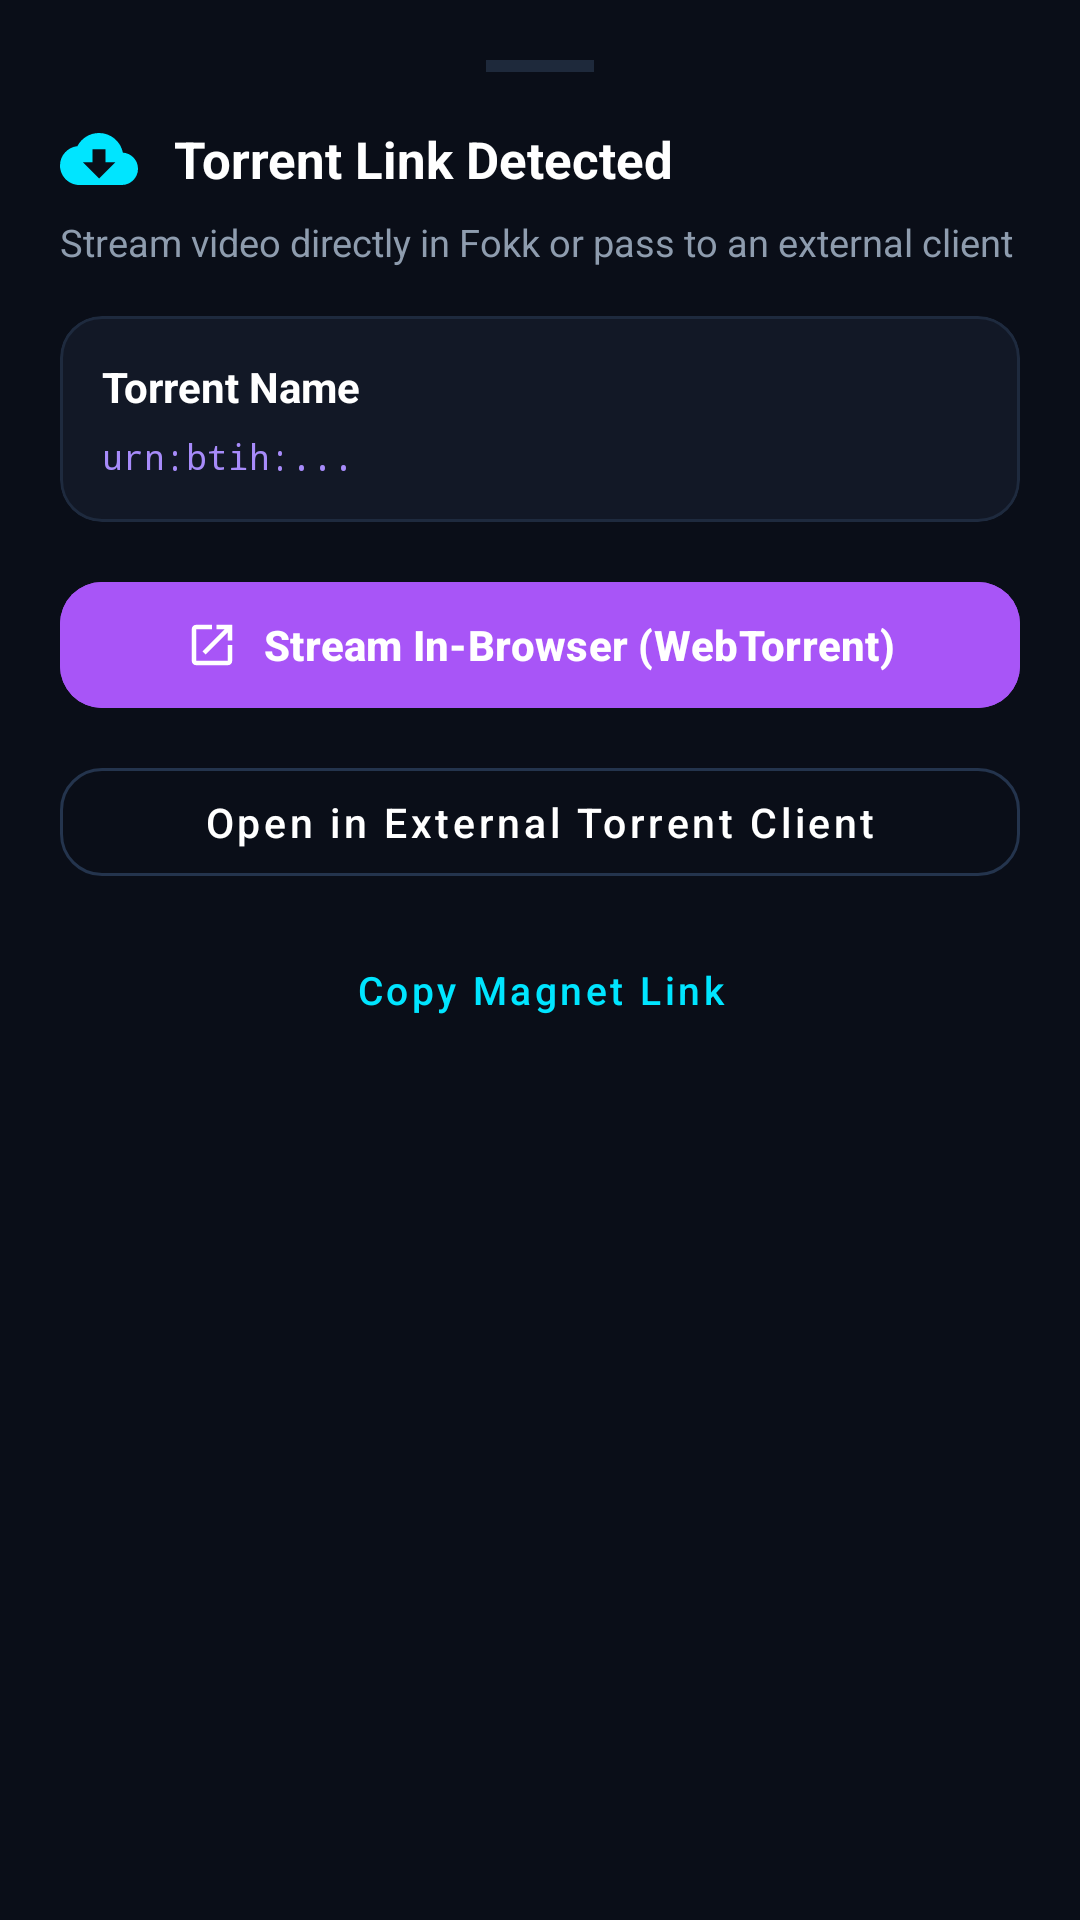

Screen size 1080x1920. Icon name, then its box in pixels as Rect(x1, y1, x2, y2):
download: Rect(60, 133, 138, 185)
